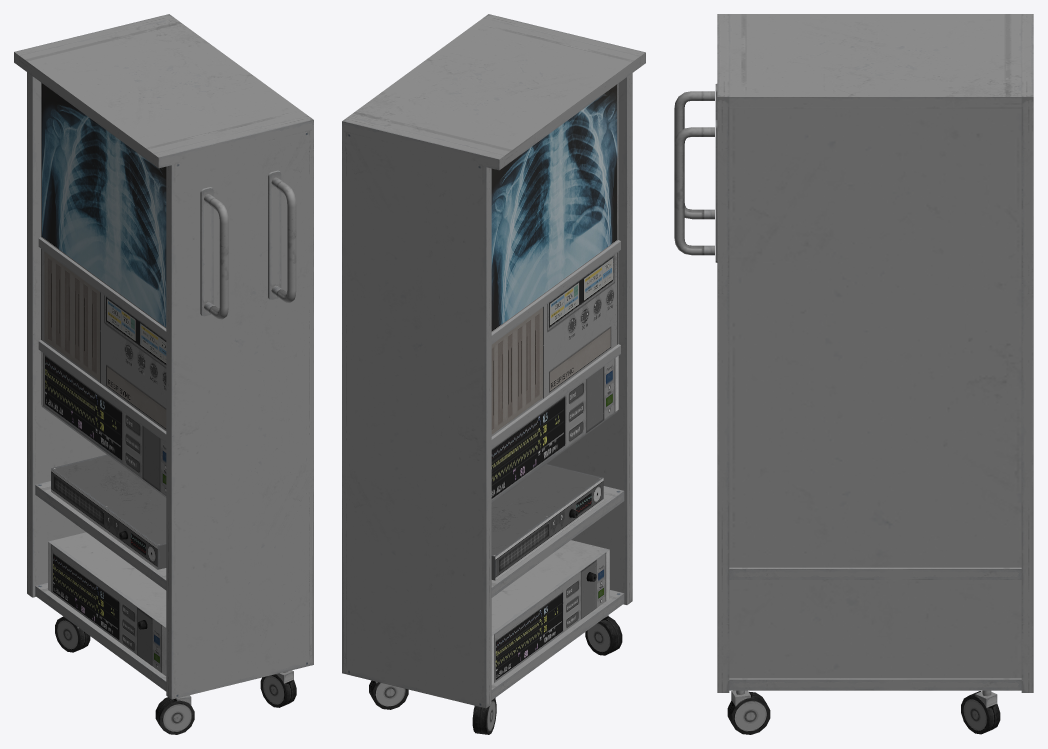
File: HH_Laparoscopic_Complex.fbx
The picture shows the model from 3 angles, left to right: view 1: azimuth 30°, elevation 25°; view 2: azimuth 150°, elevation 25°; view 3: azimuth 270°, elevation 25°; orthographic projection. The views are drawn at different scales.
Parts seen in each view (by area): view 1: HH_Laparoscopic_Complex_LOD0; view 2: HH_Laparoscopic_Complex_LOD0; view 3: HH_Laparoscopic_Complex_LOD0.
Boxes of the visible parts, x1=… form: HH_Laparoscopic_Complex_LOD0: x1=14, y1=14, x2=313, y2=734; HH_Laparoscopic_Complex_LOD0: x1=342, y1=14, x2=645, y2=734; HH_Laparoscopic_Complex_LOD0: x1=674, y1=14, x2=1033, y2=734.
Size of what is drawn, in the model's own units: 46.93 by 171 by 86.
